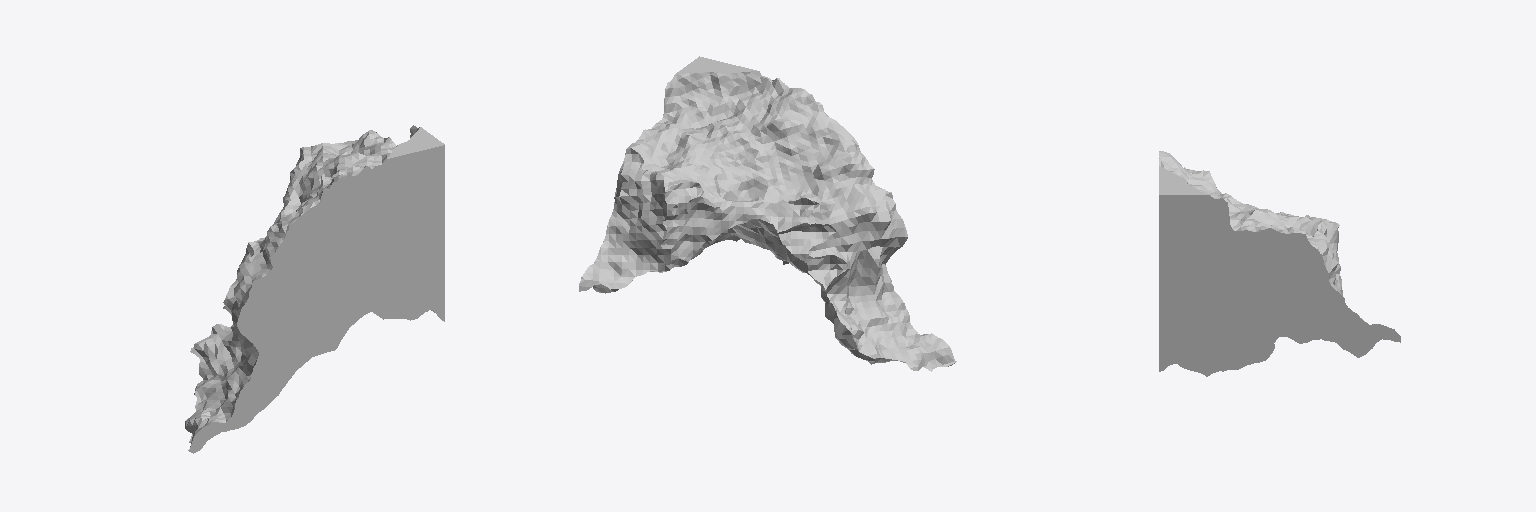
File: cube_20_seed_4_shard.000.obj
The picture shows the model from 3 angles: view 1: azimuth 30°, elevation 25°; view 2: azimuth 150°, elevation 25°; view 3: azimuth 270°, elevation 25°; orthographic projection.
Visible parts, largest first — view 1: Cube_shard_Cube_shard.100; view 2: Cube_shard_Cube_shard.100; view 3: Cube_shard_Cube_shard.100.
Part boxes in pixels (left/top/right/bottom): Cube_shard_Cube_shard.100: left=185, top=125, right=444, bottom=453; Cube_shard_Cube_shard.100: left=579, top=56, right=956, bottom=371; Cube_shard_Cube_shard.100: left=1159, top=151, right=1400, bottom=376.
Size of the model in its own units: 1.69 by 1.55 by 1.37.